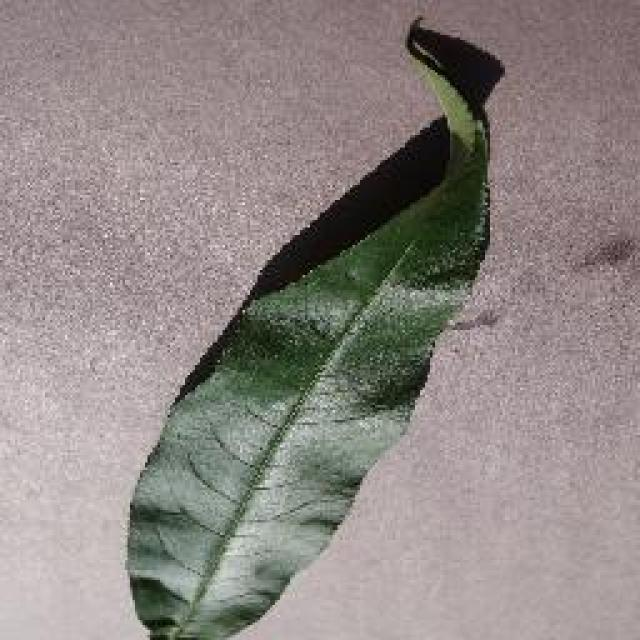Pea_healthy: (132, 139, 496, 591)
